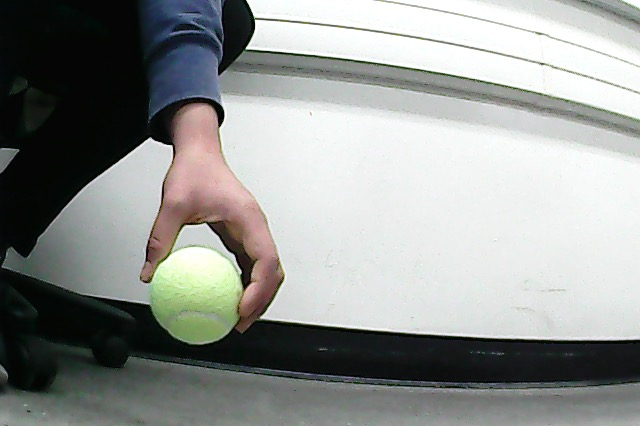ball: (144, 244, 249, 349)
